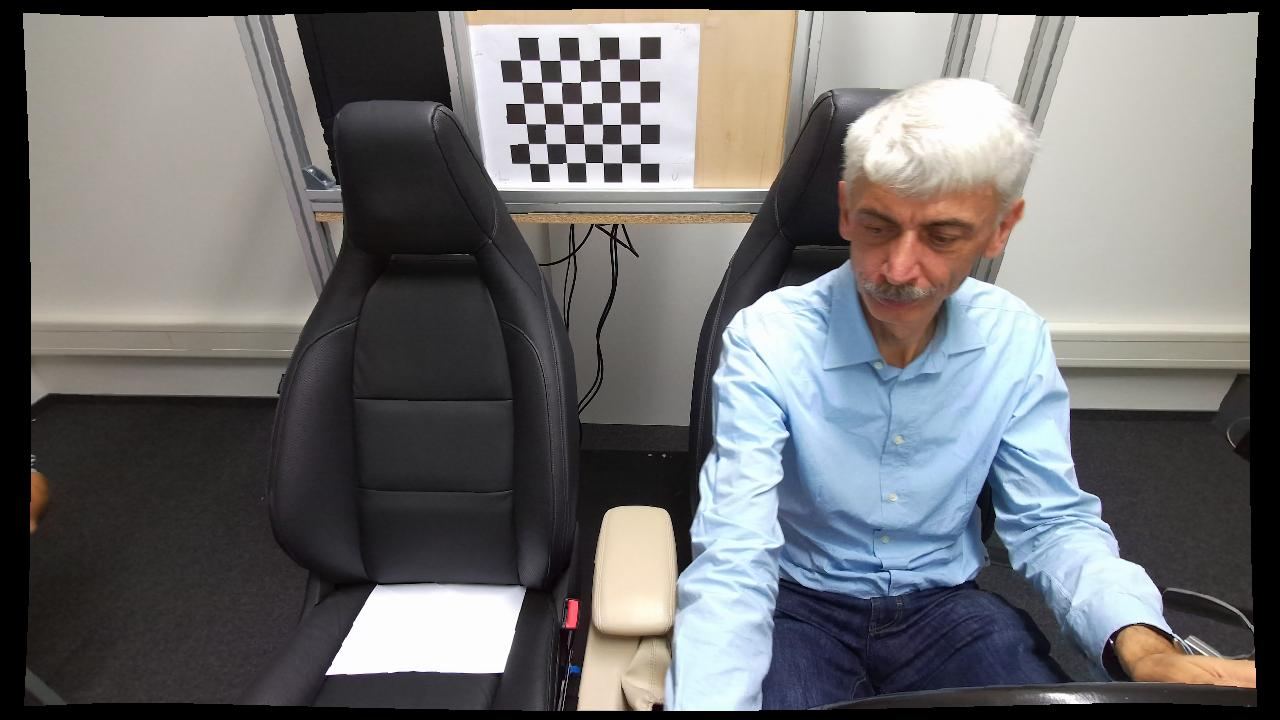Distracted: (657, 75, 1179, 704)
